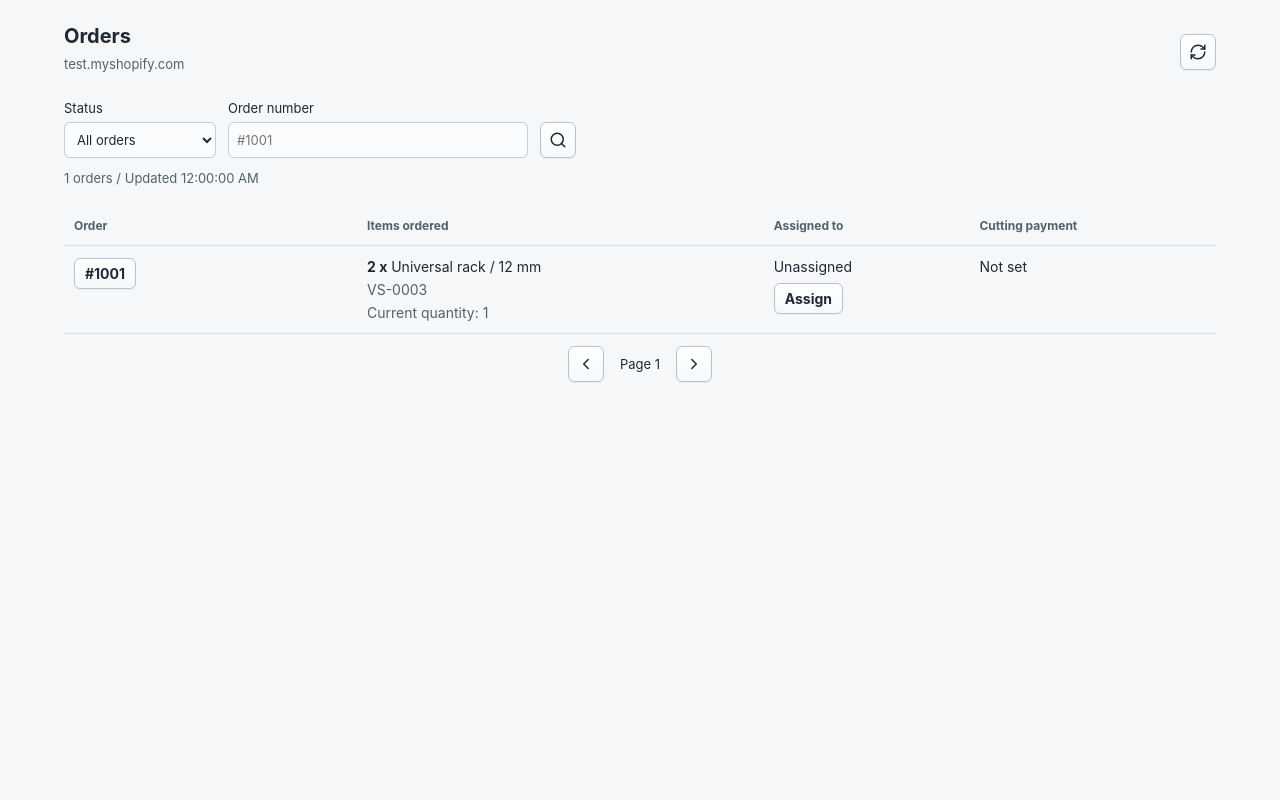
Test: Shopify orders page › shows only order numbers and ordered items with no financial columns
Click the button "#1001" at (105, 274), box [74,258,136,289]
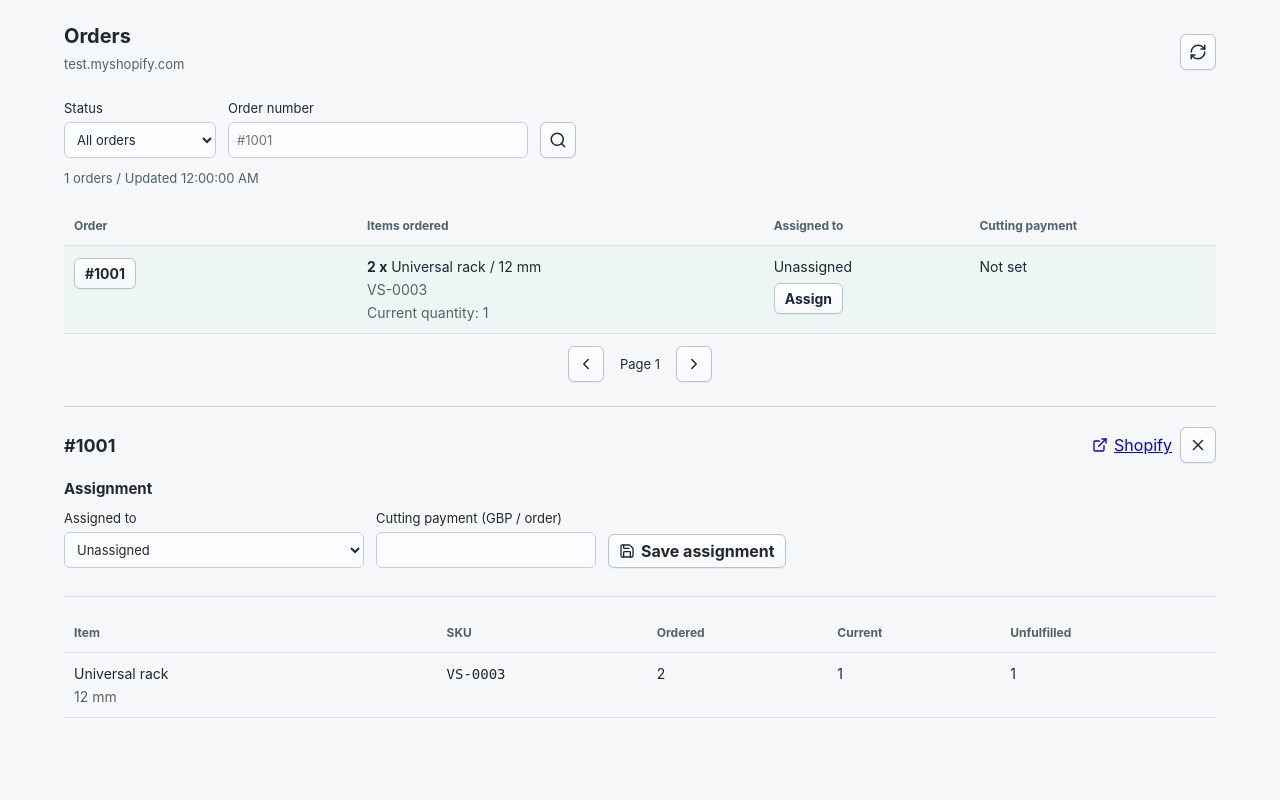
Expected: the text "VS-0003" below "/ 12 mm" is shown, [367,281,427,298]
Result: the column heading "Ordered" is shown at [647,613,827,652]
